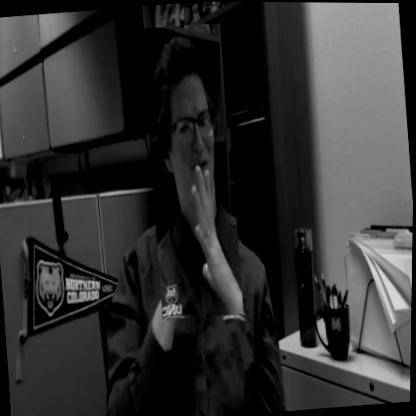Talk: (138, 22, 248, 320)
